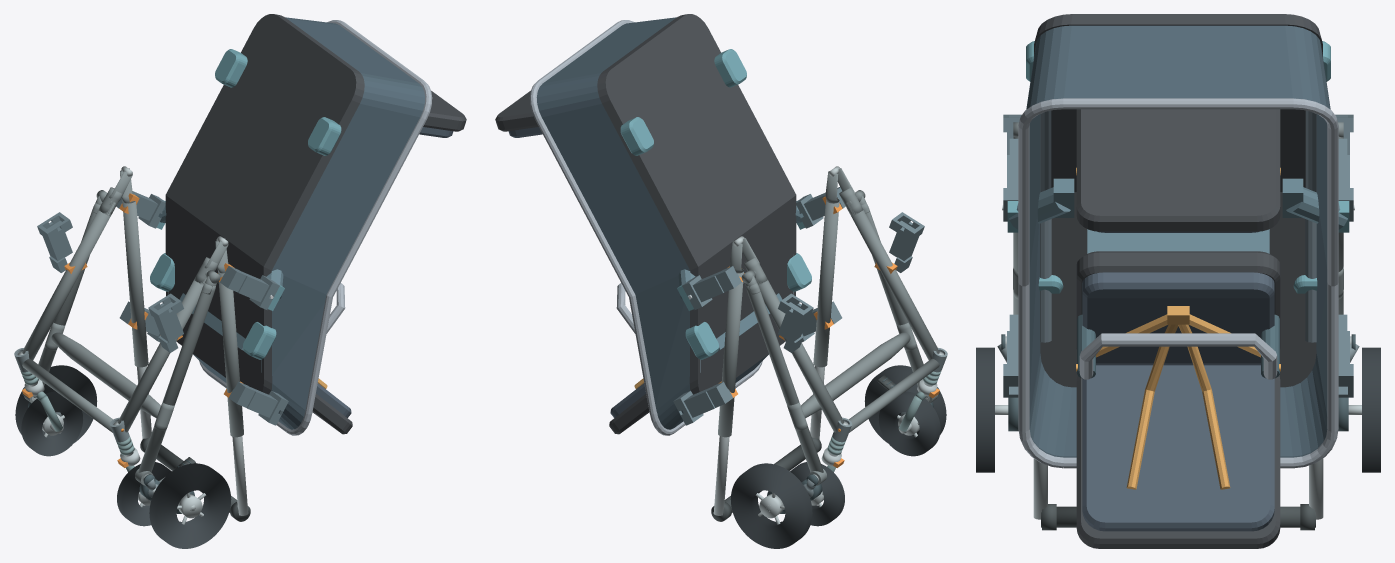
The model's file is S11_w550_state3_wheel_S.glb.
The picture shows the model from 3 angles, left to right: view 1: azimuth 30°, elevation 25°; view 2: azimuth 150°, elevation 25°; view 3: azimuth 270°, elevation 25°; orthographic projection. The views are drawn at different scales.
Parts seen in each view (by area): view 1: S11_Cabin, RL_tire.002, FR_tire.002, main_lower_1.003, main_upper_1.003, V46_rear_leg_-1.003, main_upper_-1.003, V46_rearbar.003, main_lower_-1.003, RR_tire.002, FL_tire.002, Universal_Cabin_Receiver_H_-1 (+7 smaller); view 2: S11_Cabin, RR_tire.002, FL_tire.002, main_lower_-1.003, main_upper_-1.003, V46_rear_leg_1.003, main_upper_1.003, V46_rearbar.003, main_lower_1.003, FR_tire.002, RL_tire.002, Universal_Cabin_Receiver_H_1 (+8 smaller); view 3: S11_Cabin, S11_Cabin_Mount_M, RL_tire.002, RR_tire.002, Universal_Cabin_Receiver_H_1, Universal_Cabin_Receiver_H_-1, round_handle.002, Universal_Cabin_Receiver_M_1, Universal_Cabin_Receiver_M_-1, handle_slider_1.002, handle_slider_-1.002.
Boxes of the visible parts, box(x1,y1,x2,y2) form: S11_Cabin: box(150, 14, 466, 435); RL_tire.002: box(149, 463, 231, 548); FR_tire.002: box(21, 391, 82, 456); main_lower_1.003: box(22, 202, 115, 360); main_upper_1.003: box(122, 201, 148, 367); V46_rear_leg_-1.003: box(138, 283, 215, 472); main_upper_-1.003: box(218, 271, 243, 437); V46_rearbar.003: box(51, 332, 160, 418); main_lower_-1.003: box(117, 278, 206, 432); RR_tire.002: box(15, 365, 97, 442); FL_tire.002: box(117, 462, 171, 526); Universal_Cabin_Receiver_H_-1: box(229, 381, 288, 425); S11_Cabin: box(495, 14, 811, 435); RR_tire.002: box(730, 463, 812, 548); FL_tire.002: box(879, 391, 940, 456); main_lower_-1.003: box(846, 202, 939, 360); main_upper_-1.003: box(813, 201, 839, 367); V46_rear_leg_1.003: box(746, 283, 823, 472); main_upper_1.003: box(718, 269, 743, 437); V46_rearbar.003: box(801, 332, 910, 418); main_lower_1.003: box(755, 278, 844, 432); FR_tire.002: box(790, 462, 844, 526); RL_tire.002: box(864, 365, 946, 442); Universal_Cabin_Receiver_H_1: box(673, 381, 732, 425); S11_Cabin: box(1018, 14, 1338, 548); S11_Cabin_Mount_M: box(1002, 178, 1354, 232); RL_tire.002: box(976, 347, 994, 472); RR_tire.002: box(1362, 347, 1380, 472); Universal_Cabin_Receiver_H_1: box(1338, 314, 1353, 397); Universal_Cabin_Receiver_H_-1: box(1003, 314, 1018, 397); round_handle.002: box(1041, 506, 1315, 527); Universal_Cabin_Receiver_M_1: box(1338, 138, 1353, 221); Universal_Cabin_Receiver_M_-1: box(1003, 138, 1018, 221); handle_slider_1.002: box(1309, 458, 1323, 519); handle_slider_-1.002: box(1033, 458, 1047, 519).
Bounding box in the file's own units: 0.9947 × 1.06 × 0.6471.
